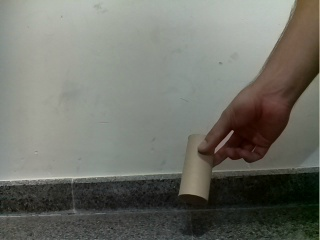rollo papel: (177, 133, 216, 200)
